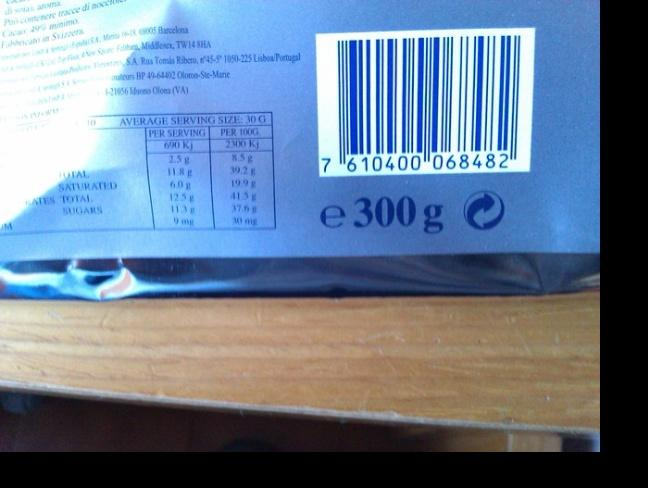Barcode: (316, 28, 535, 179)
